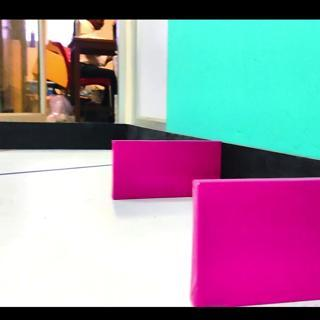xparking: (196, 185, 310, 301), (113, 141, 194, 195)
